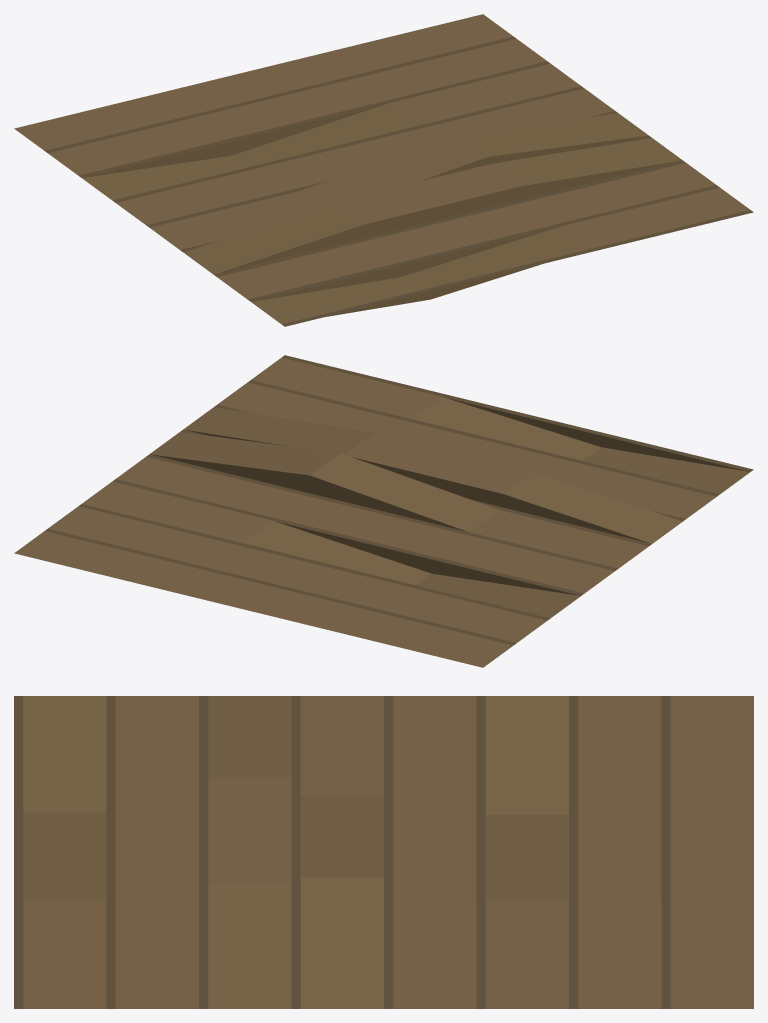
Rendered from AI_Env_Floor_02_Warped.fbx.
3 views of the same model, one above another, from view 1: azimuth 30°, elevation 25°; view 2: azimuth 150°, elevation 25°; view 3: azimuth 270°, elevation 25° (orthographic). The views are drawn at different scales.
Parts seen in each view (by area): view 1: AI_Env_Floor_02_Warped; view 2: AI_Env_Floor_02_Warped; view 3: AI_Env_Floor_02_Warped.
Boxes of the visible parts, box(x1,y1,x2,y2) form: AI_Env_Floor_02_Warped: box(14, 14, 753, 326); AI_Env_Floor_02_Warped: box(14, 355, 753, 667); AI_Env_Floor_02_Warped: box(14, 696, 753, 1008).
Bounding box in the file's own units: 5 × 0.3269 × 5.
